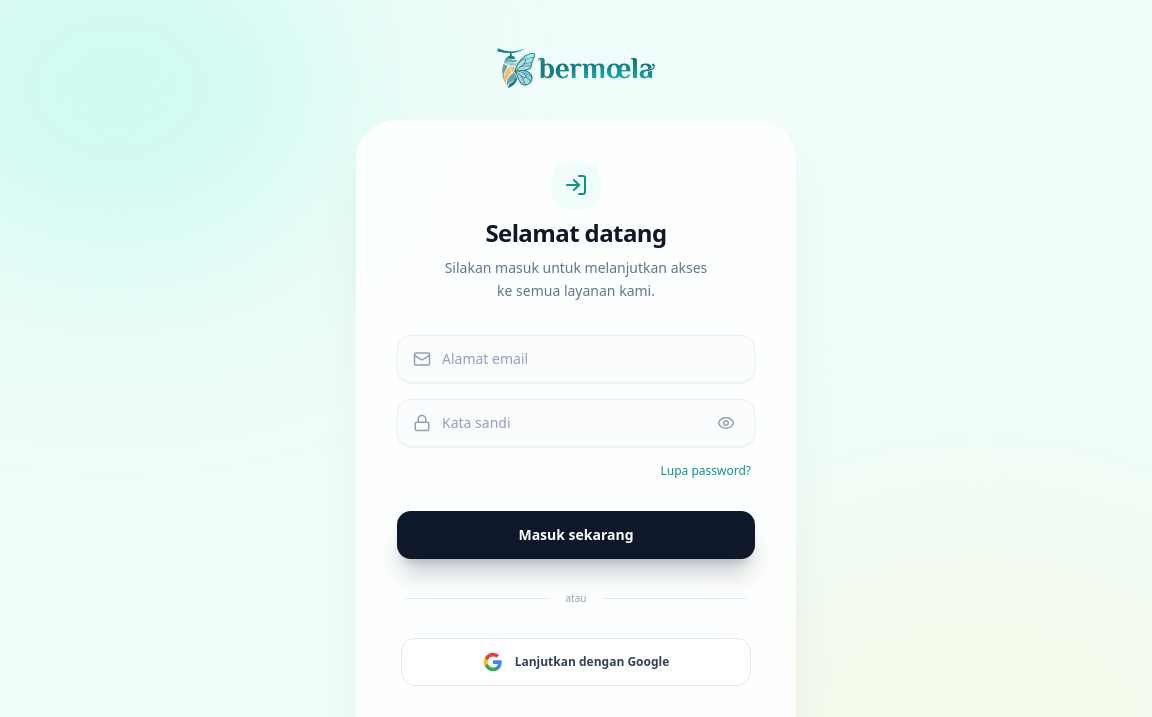
LoginForm › shows validation error for short password on submit
Type "test@example.com" into the field with placeholder "Alamat email" at (576, 358), box [397, 334, 755, 382]
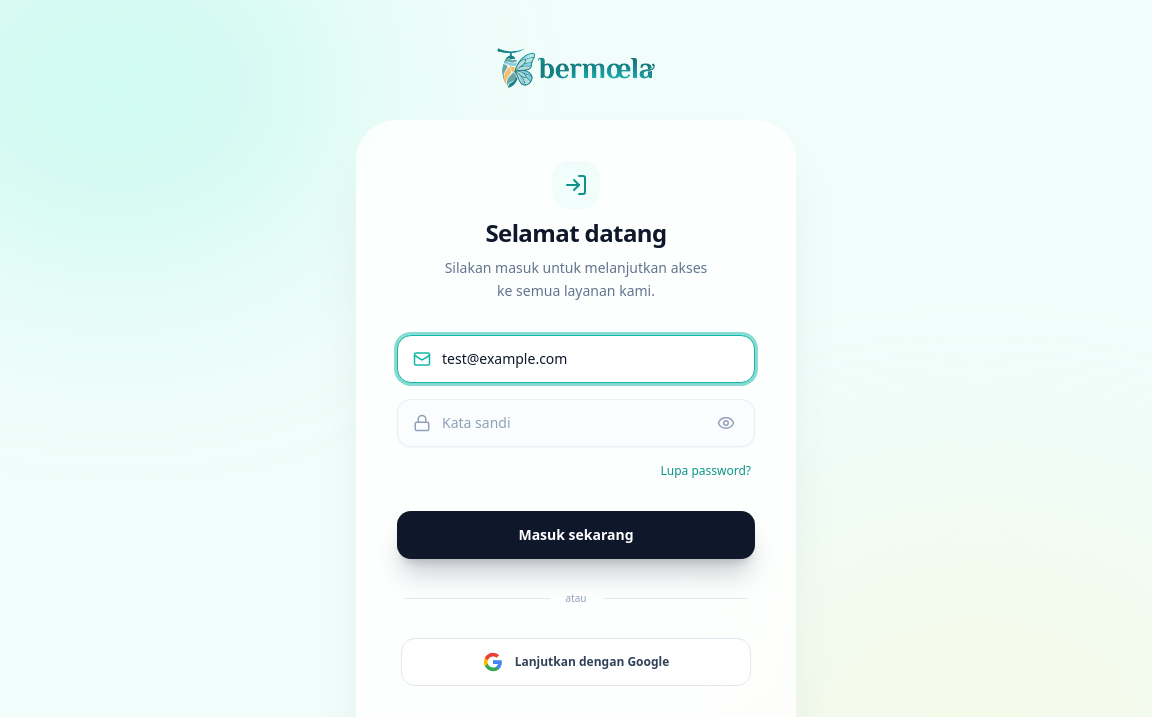
Type "123" into the password field with placeholder "Kata sandi" at (576, 422), box [397, 398, 755, 446]
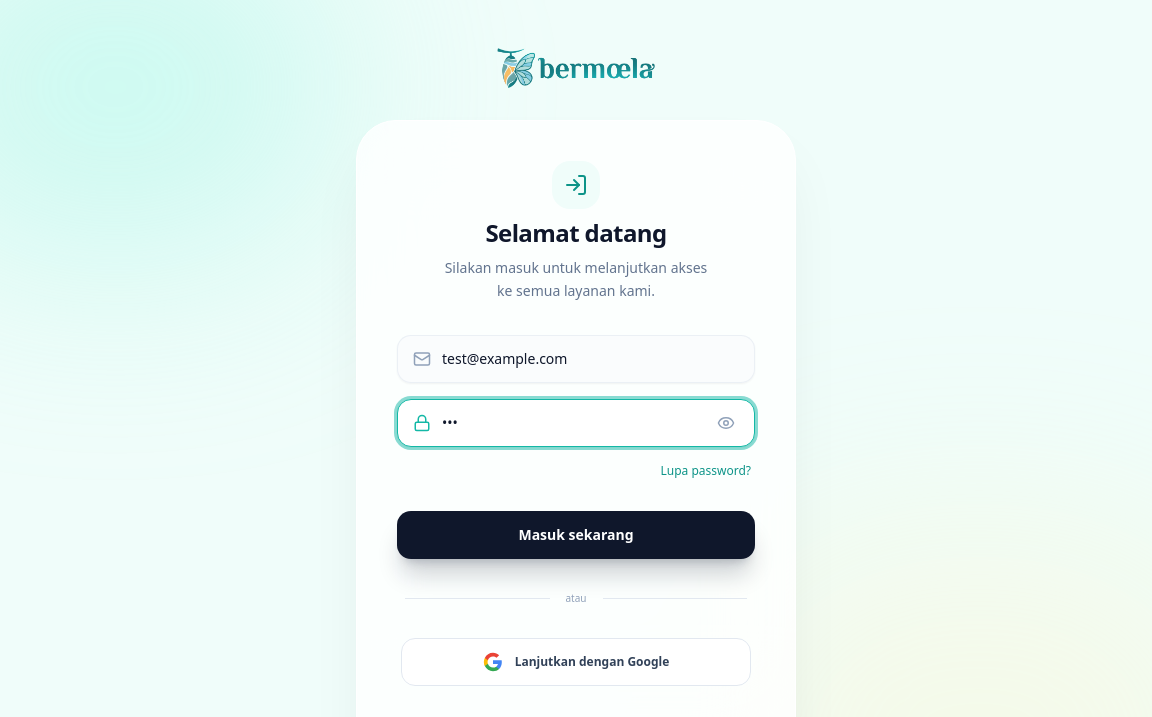
Click the button "Masuk sekarang" at (576, 534), box [397, 510, 755, 558]
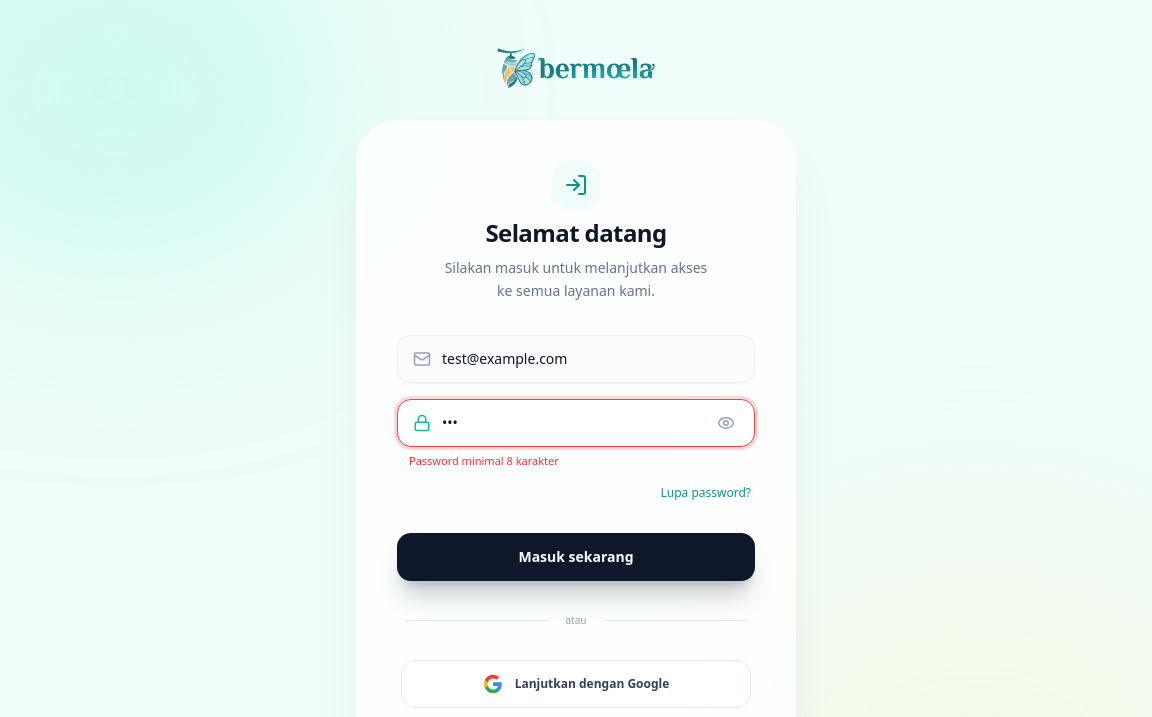
Check: the text "Password minimal 8 karakter" is shown, box [409, 452, 559, 468]
